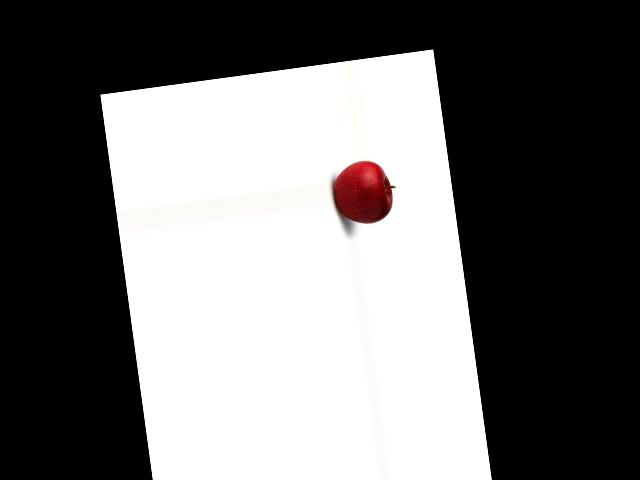apple: (328, 156, 401, 229)
